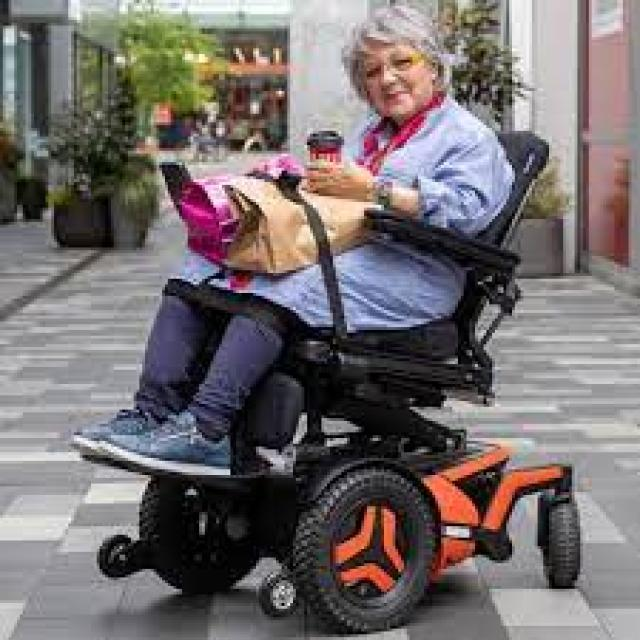wheelchairs: (41, 99, 612, 640)
